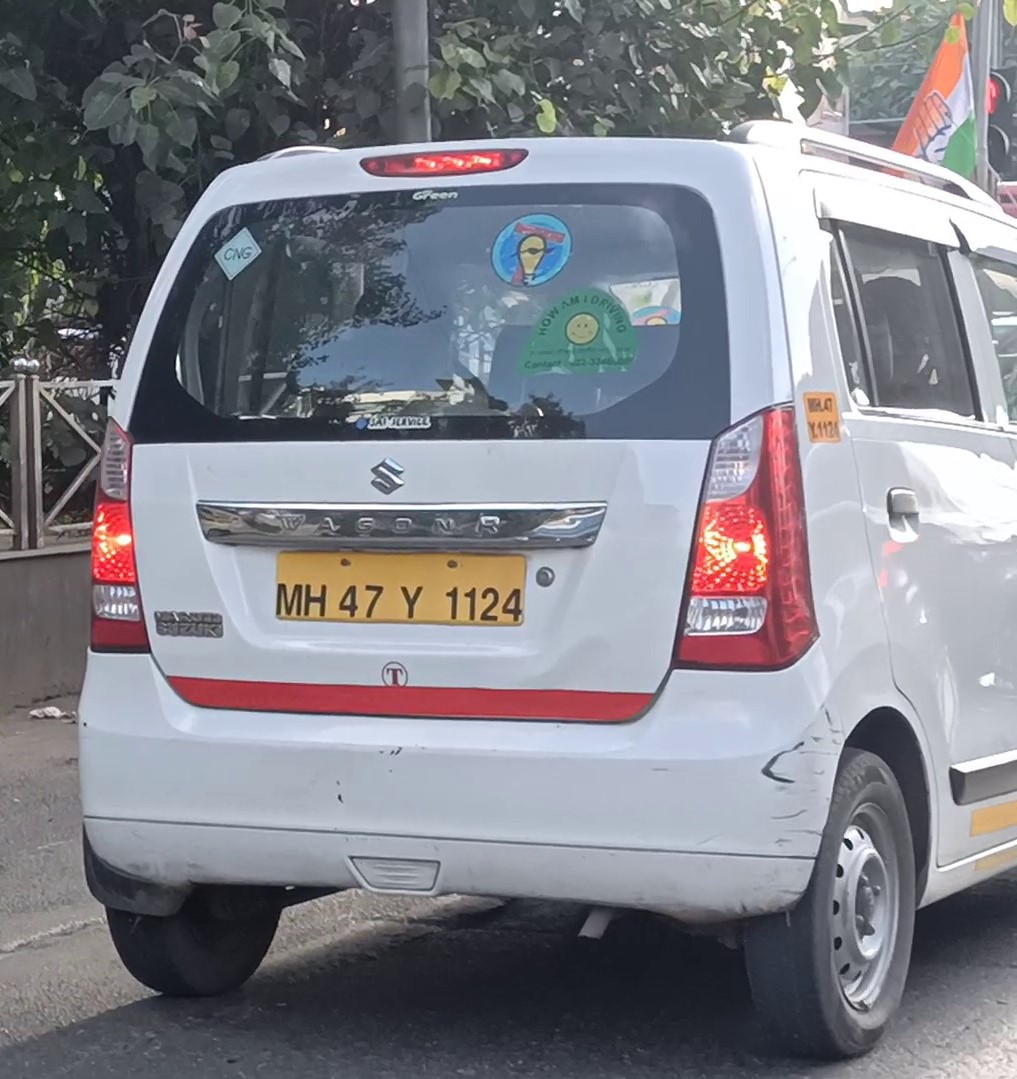MH47Y1124: (275, 550, 530, 626)
